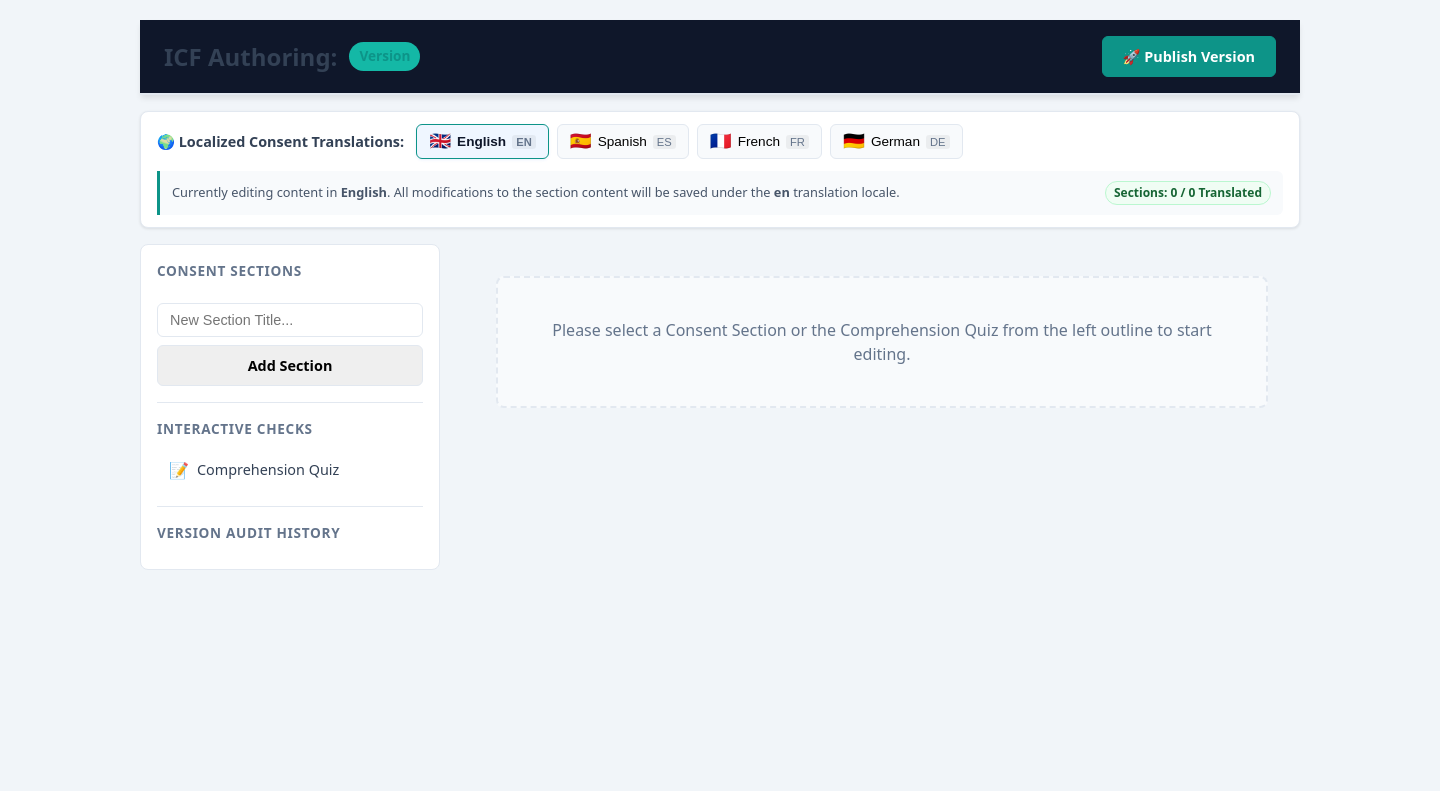
Test: ICFBuilderView.vue and Pinia Store Unit Tests › adds a new consent section and updates the reactive store
The image size is (1440, 791).
In the field with placeholder "New Section Title...": (290, 320) [157, 303, 423, 337], type "Genetic Screening and Biobanking"
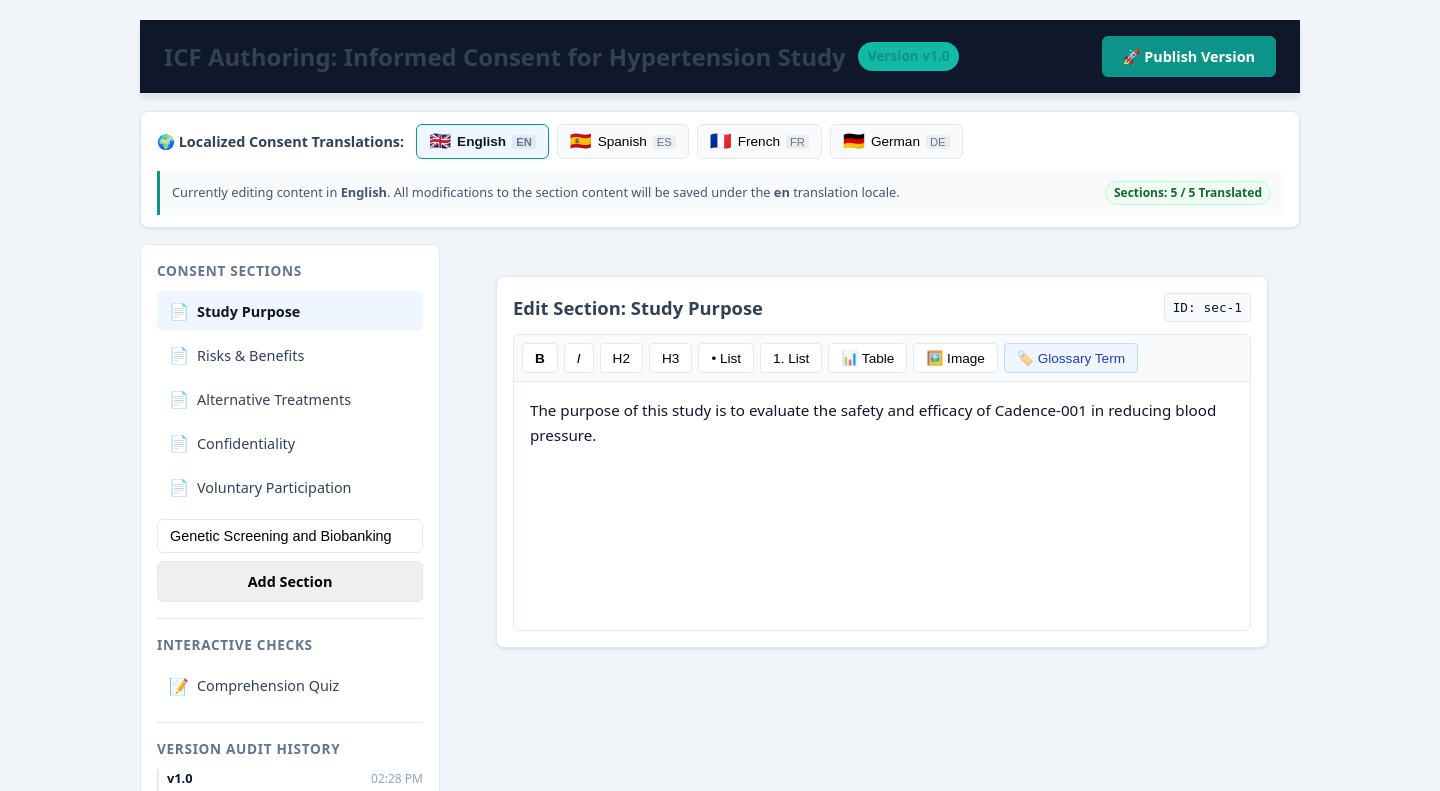
Click the button "Add Section": (290, 582) [157, 561, 423, 602]
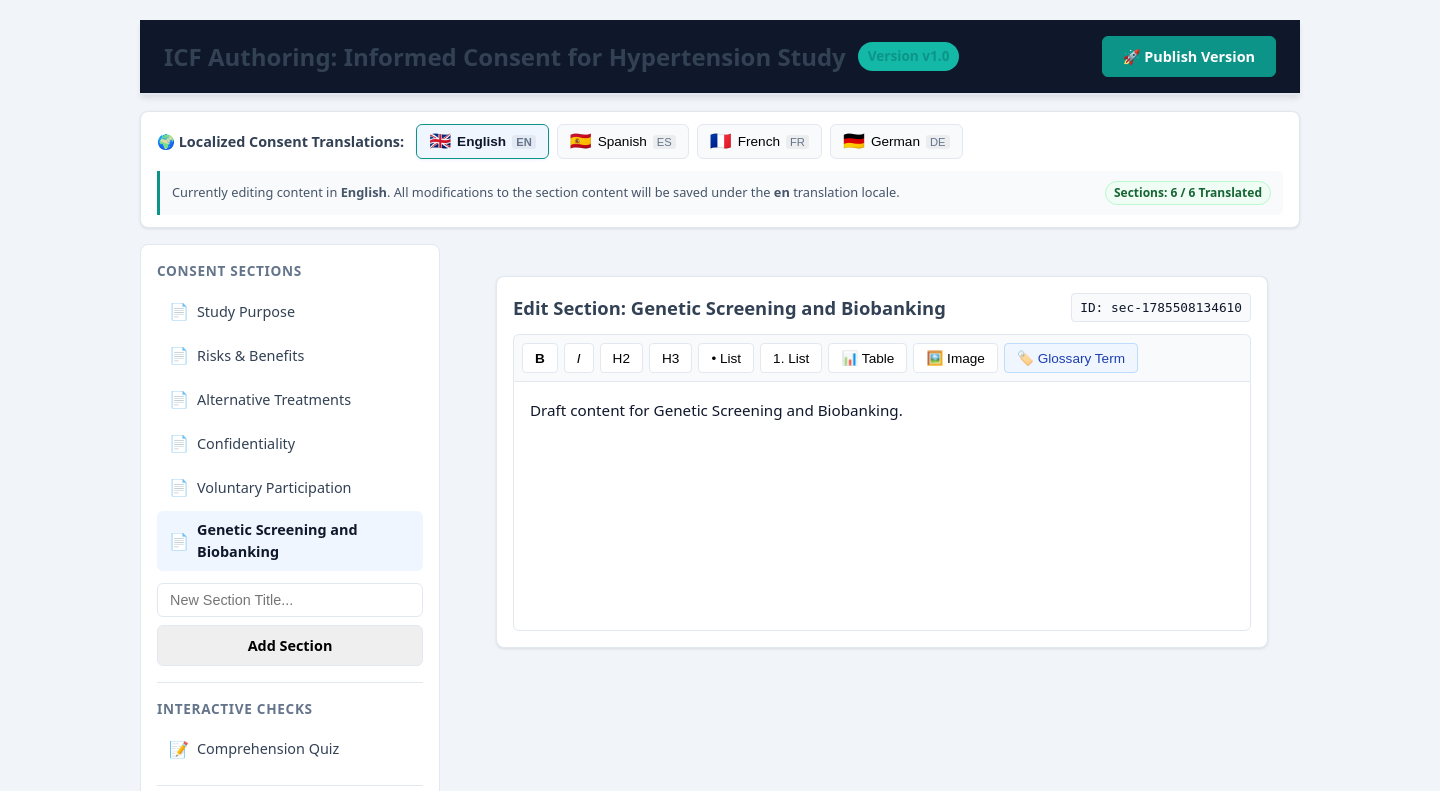
Check: the text "Genetic Screening and Biobanking" is shown, box [197, 520, 358, 561]
